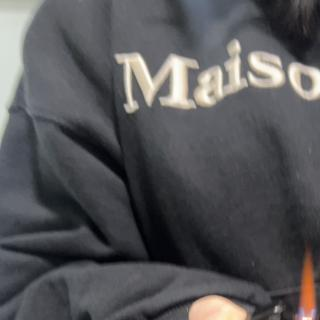fire: (298, 252, 318, 318)
